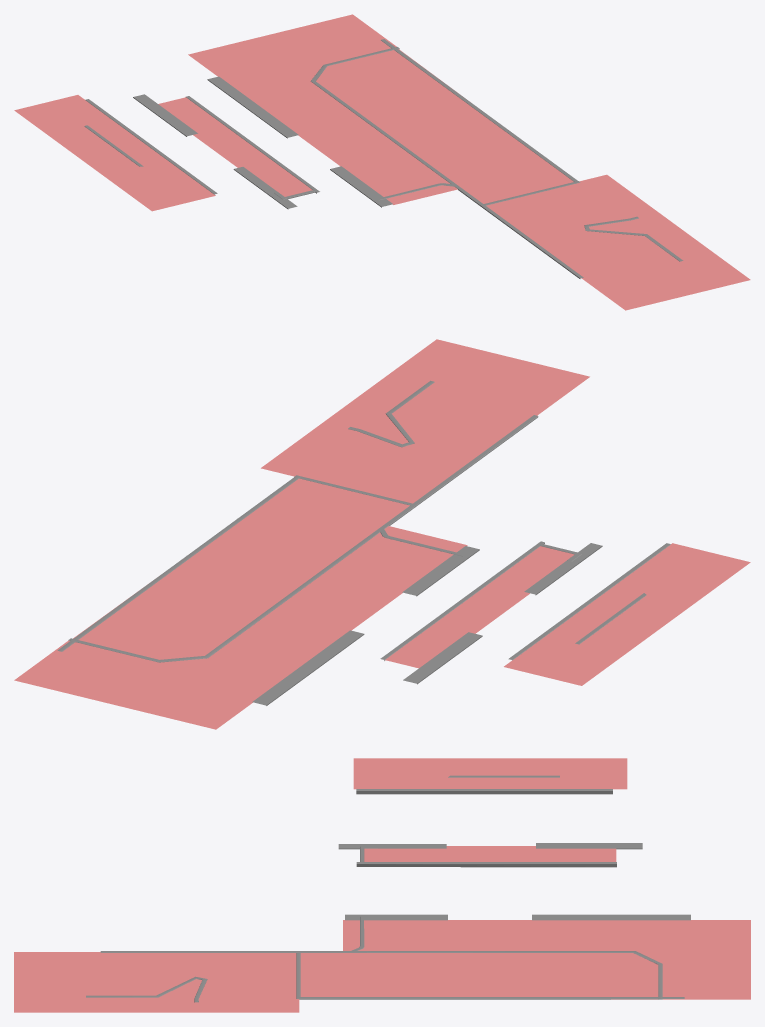
The model's file is S_Envi_Umeda_Ground_01c.gltf.
3 renders of one model, top to bottom at view 1: azimuth 30°, elevation 25°; view 2: azimuth 150°, elevation 25°; view 3: azimuth 270°, elevation 25°, orthographic. The views are drawn at different scales.
Visible parts, largest first — view 1: S_Envi_Umeda_Ground_01c; view 2: S_Envi_Umeda_Ground_01c; view 3: S_Envi_Umeda_Ground_01c.
Part boxes in pixels (x1,y1,x2,y2): S_Envi_Umeda_Ground_01c: (14,14,750,310); S_Envi_Umeda_Ground_01c: (14,339,750,729); S_Envi_Umeda_Ground_01c: (14,758,750,1012).
Size of the model in its own units: 34.31 by 3.73 by 51.64.
